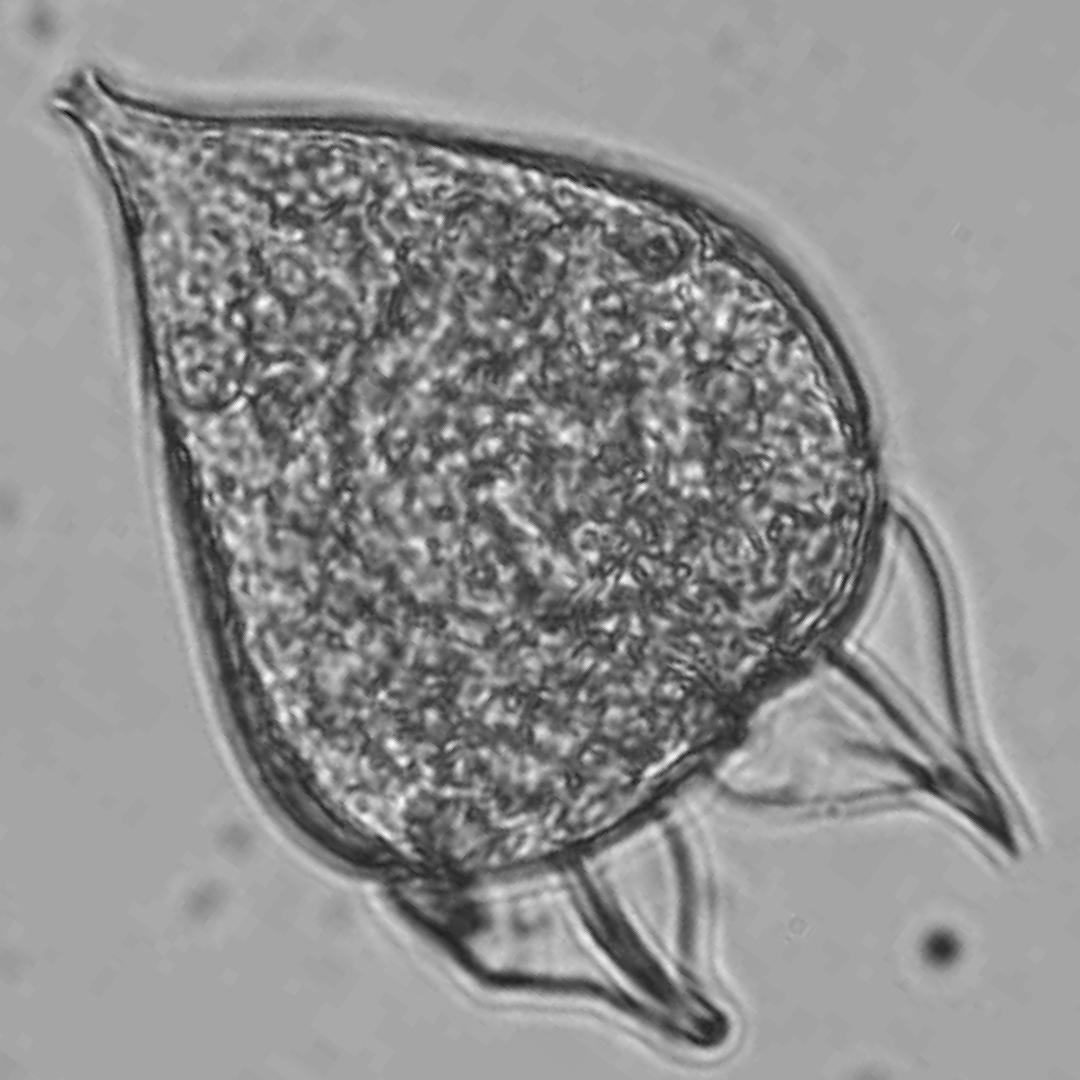podolampas_bipes: (49, 68, 1022, 1052)
